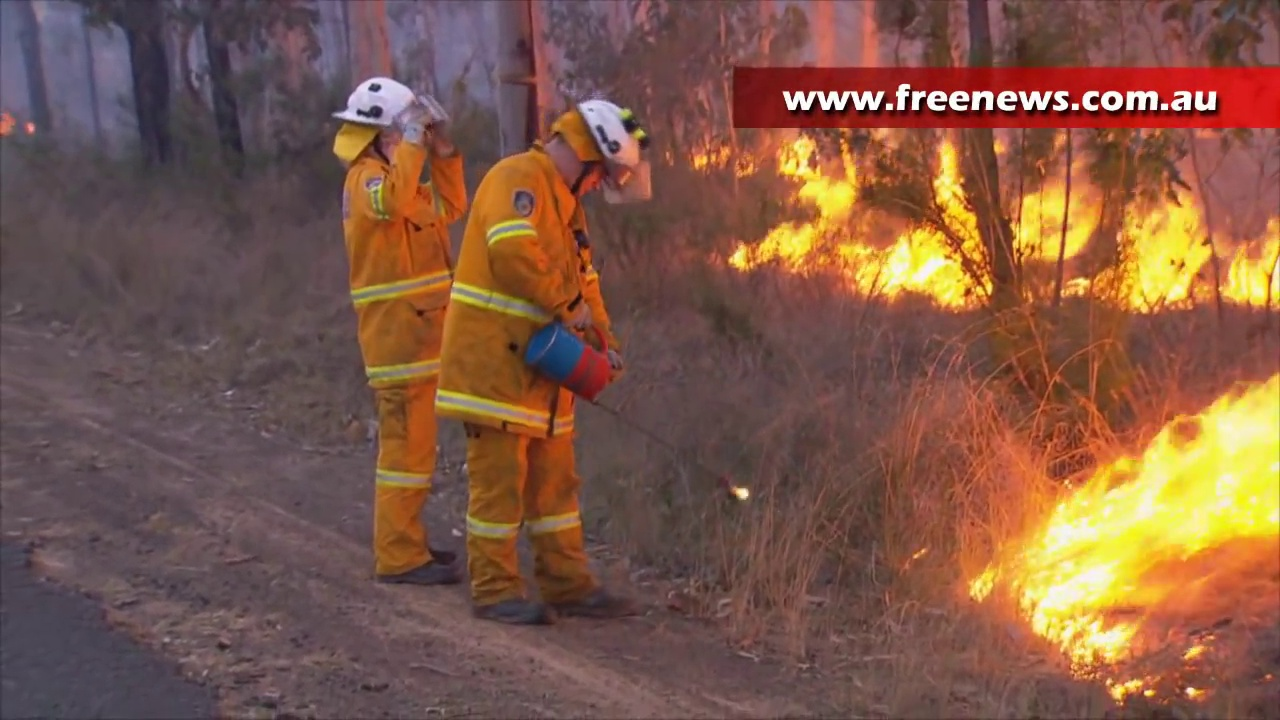fire: (970, 374, 1280, 660), (738, 130, 857, 272), (878, 179, 986, 303), (1108, 181, 1206, 304), (1018, 138, 1103, 261), (1222, 215, 1280, 305)
